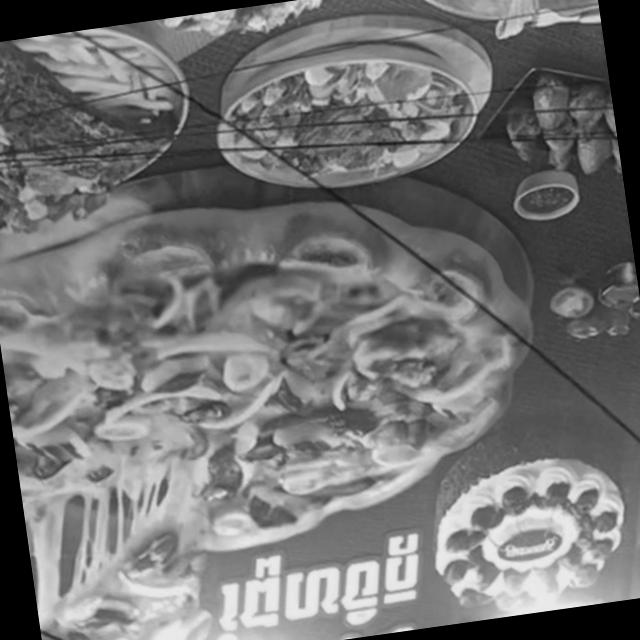Yolov11_80vkh: (212, 527, 436, 640)
